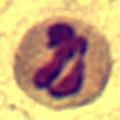neutrophil: (16, 16, 114, 103)
